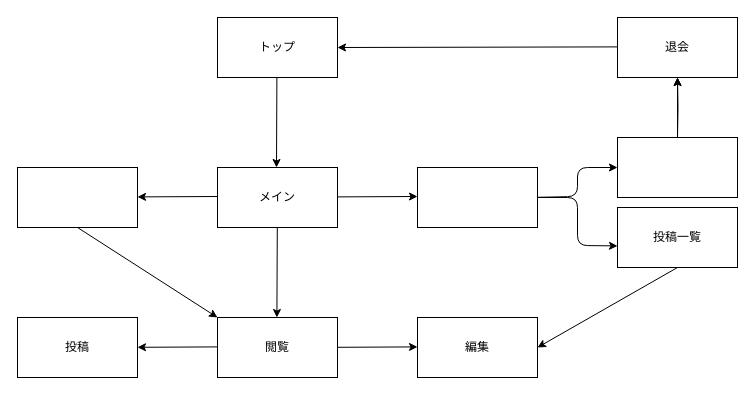
This 755x395 diagram has some shape labels left out. The box of each missing label's shape, as (x1, y1, x2, y2) in pixels:
ユーザー編集: (616, 136, 738, 198)
ユーザー詳細: (416, 166, 538, 228)
検索: (16, 166, 138, 228)
